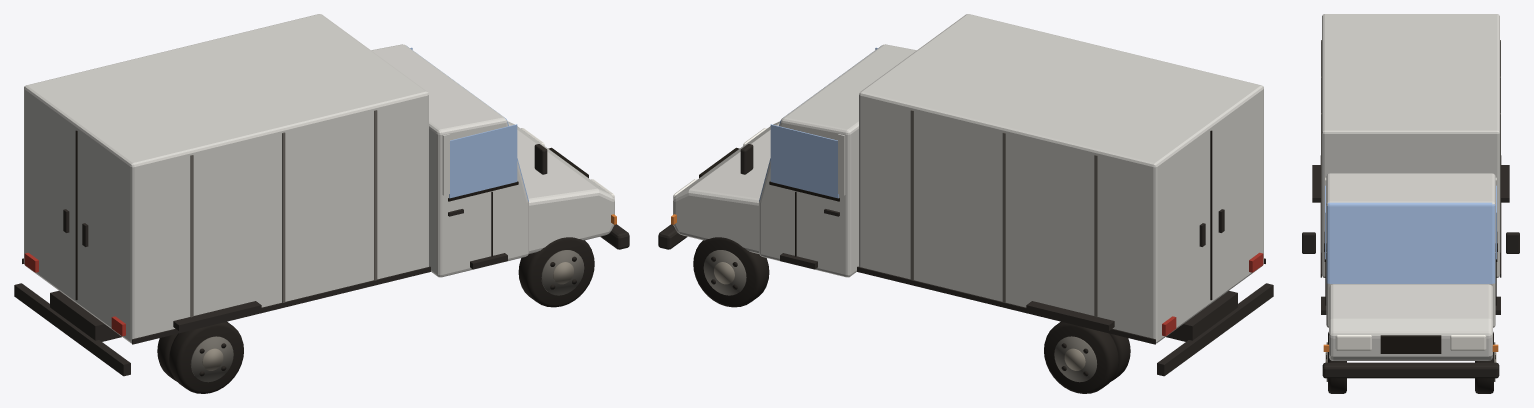
The model's file is VH_Gazel.glb.
3 views of the same model, side by side, from view 1: azimuth 30°, elevation 25°; view 2: azimuth 150°, elevation 25°; view 3: azimuth 270°, elevation 25° (orthographic). The views are drawn at different scales.
Parts seen in each view (by area): view 1: cab; view 2: cab; view 3: cab.
Part boxes in pixels (x1,y1,x2,y2): cab: (14, 14, 629, 393); cab: (658, 14, 1273, 393); cab: (1302, 14, 1519, 393).
Bounding box in the file's own units: 5.53 × 2.62 × 2.52.
